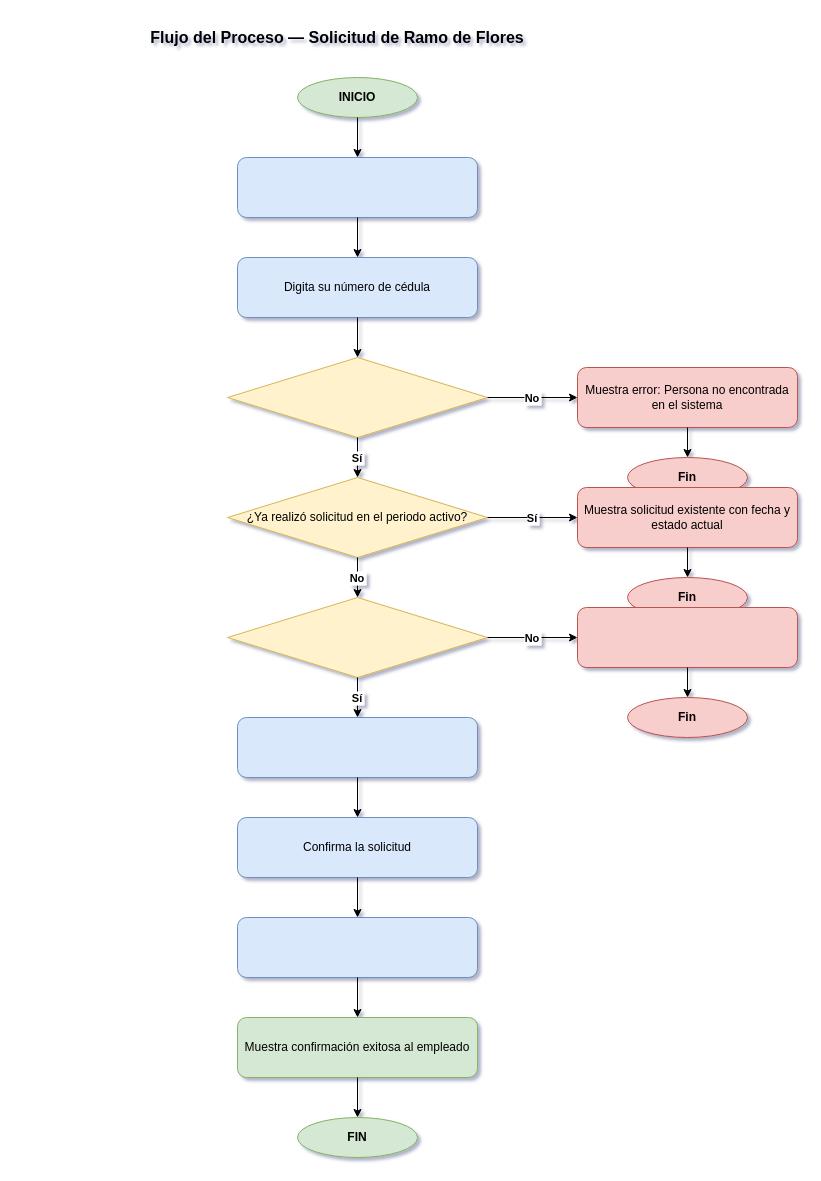
Some shapes in this 821 by 1181 pixel diagram are drawn without their labels. The shapes that lost their labels are listed below. From the top down, each one's centre as x and y in pixels, then its label:
At pixel 357 187: "Empleado accede al panel de autoatención".
At pixel 357 397: "¿Persona registrada en el sistema?".
At pixel 357 637: "¿Cupo disponible en la sede asignada?".
At pixel 687 637: "Muestra mensaje: Sede sin cupo disponible en el periodo".
At pixel 357 747: "Empleado selecciona motivo del ramo y nombre del destinatario".
At pixel 357 947: "Sistema registra la solicitud en la base de datos".
